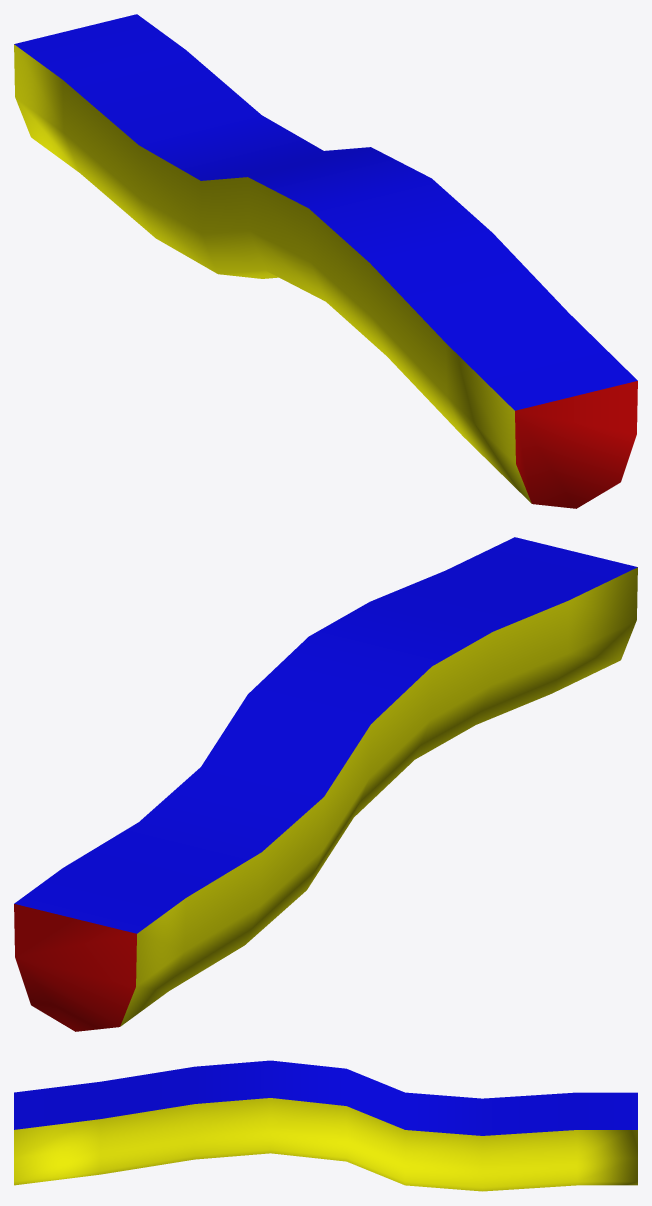
3 renders of one model, top to bottom at view 1: azimuth 30°, elevation 25°; view 2: azimuth 150°, elevation 25°; view 3: azimuth 270°, elevation 25°, orthographic. The views are drawn at different scales.
Parts seen in each view (by area): view 1: polySurface121; view 2: polySurface121; view 3: polySurface121.
Part boxes in pixels (x1=…): polySurface121: x1=14, y1=14, x2=637, y2=508; polySurface121: x1=14, y1=537, x2=637, y2=1031; polySurface121: x1=14, y1=1060, x2=637, y2=1191.
Bounding box in the file's own units: 23.58 × 31.9 × 166.
